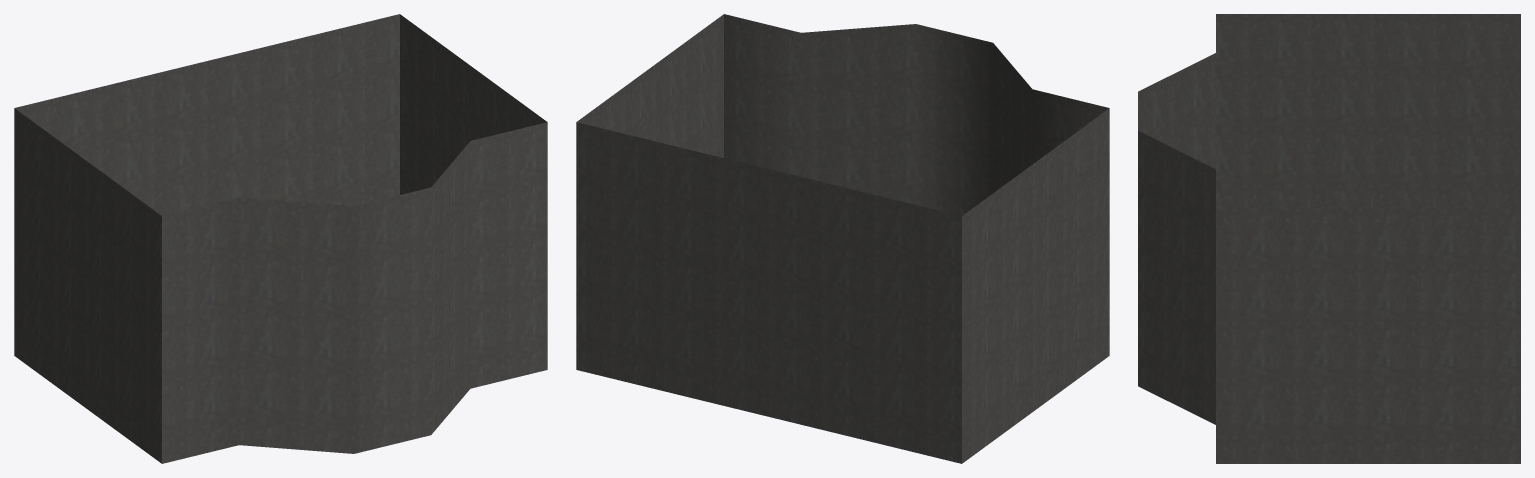
The model's file is maingroundBottom.fbx.
3 renders of one model, left to right at view 1: azimuth 30°, elevation 25°; view 2: azimuth 150°, elevation 25°; view 3: azimuth 270°, elevation 25°, orthographic. The views are drawn at different scales.
Visible parts, largest first — view 1: Box045; view 2: Box045; view 3: Box045.
Boxes of the visible parts, box(x1,y1,x2,y2) form: Box045: box(14, 14, 547, 463); Box045: box(576, 14, 1109, 463); Box045: box(1138, 14, 1520, 463).
Size of the model in its own units: 3000 by 1842 by 2500.
